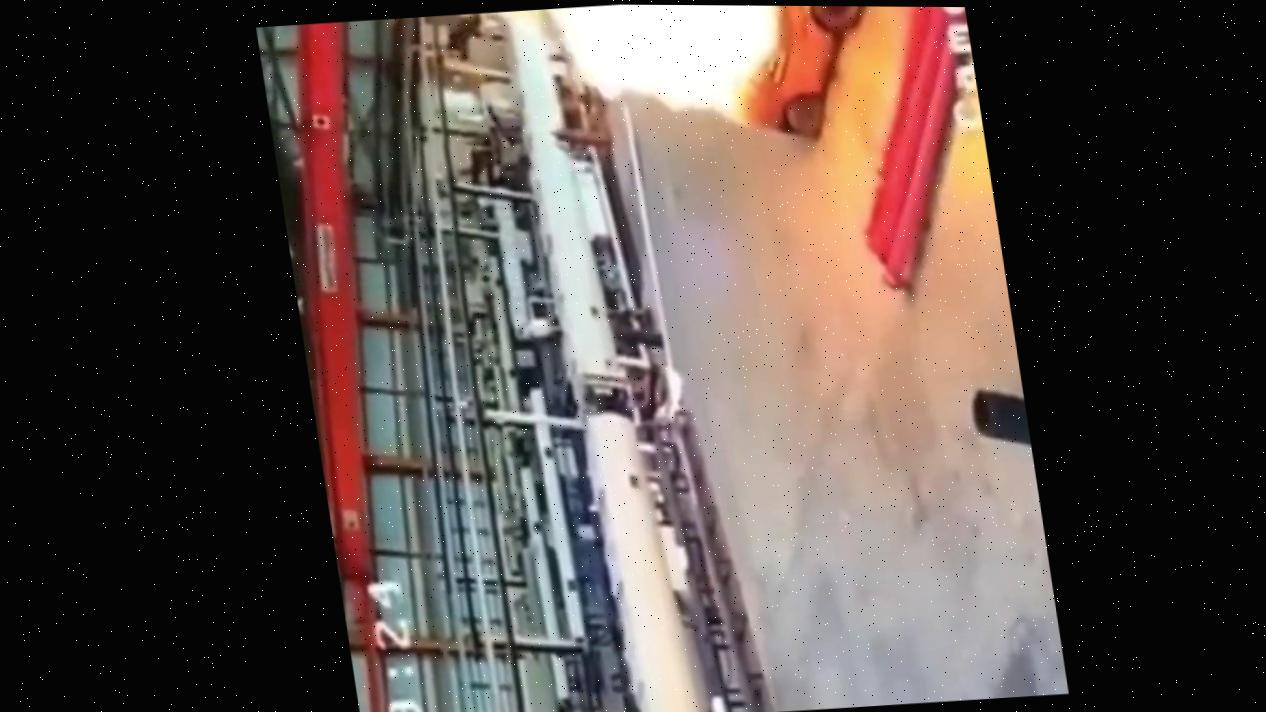fire: (460, 1, 903, 216)
